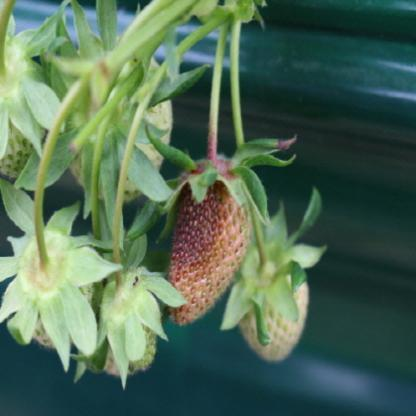Strawberry_Gray_Mold: (162, 136, 250, 326)
